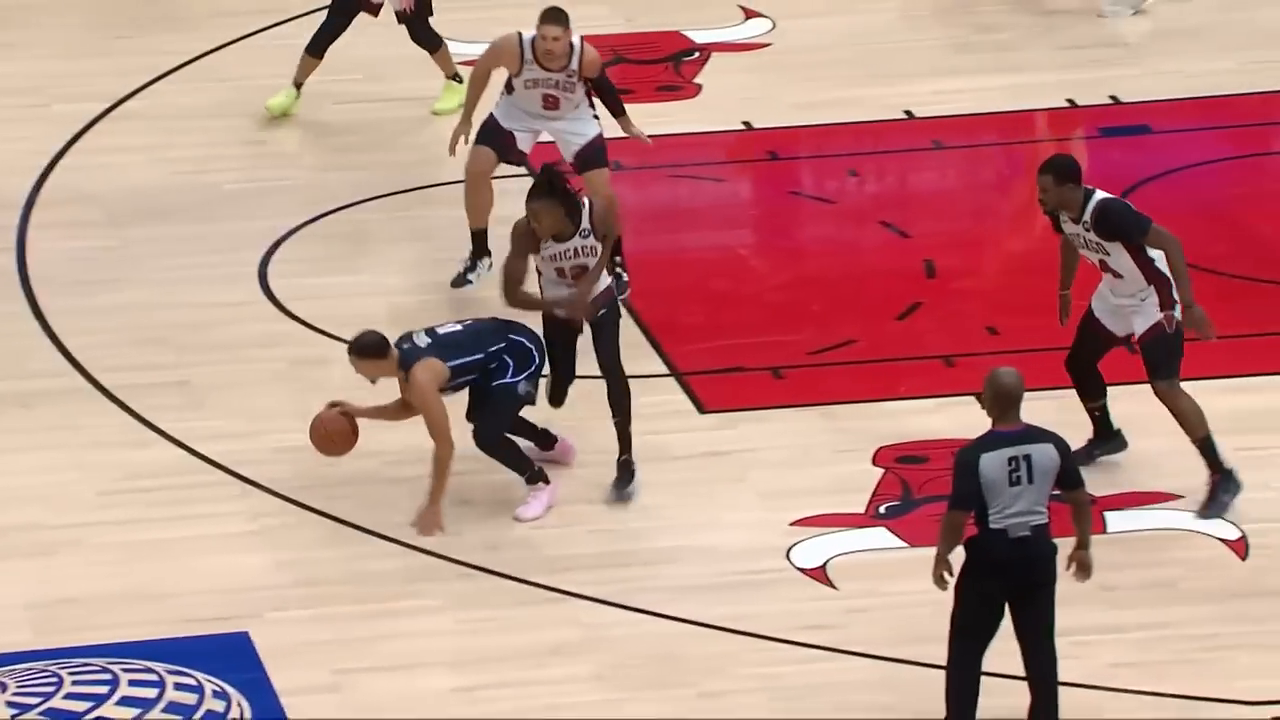ball: (297, 398, 371, 463)
